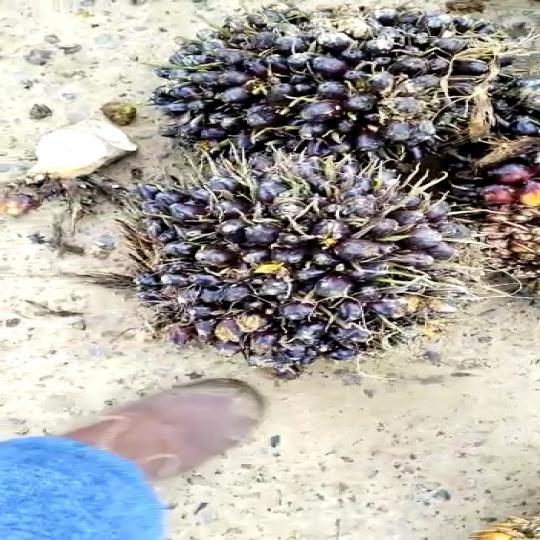mentah: (63, 154, 475, 376), (127, 19, 540, 200)
